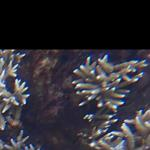dead: (2, 53, 147, 146)
